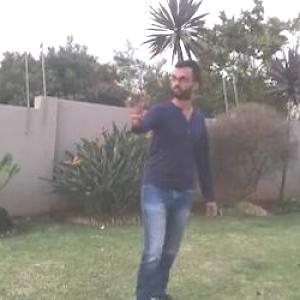takeoff-hand: (116, 86, 149, 128)
